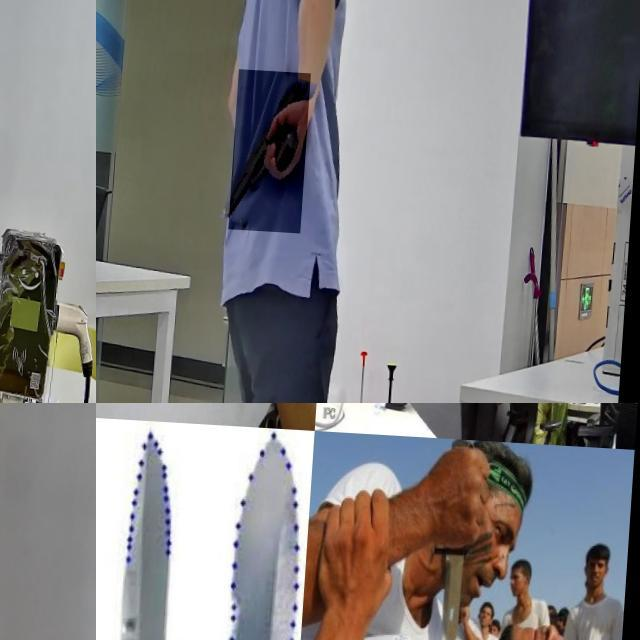-: (220, 421, 317, 640), (122, 425, 197, 640), (427, 492, 491, 640), (111, 403, 264, 458), (96, 419, 124, 640), (435, 403, 457, 424)
gun-knife-thesis - v11 Yolov5 augmented: (234, 67, 314, 230), (0, 0, 18, 44)
